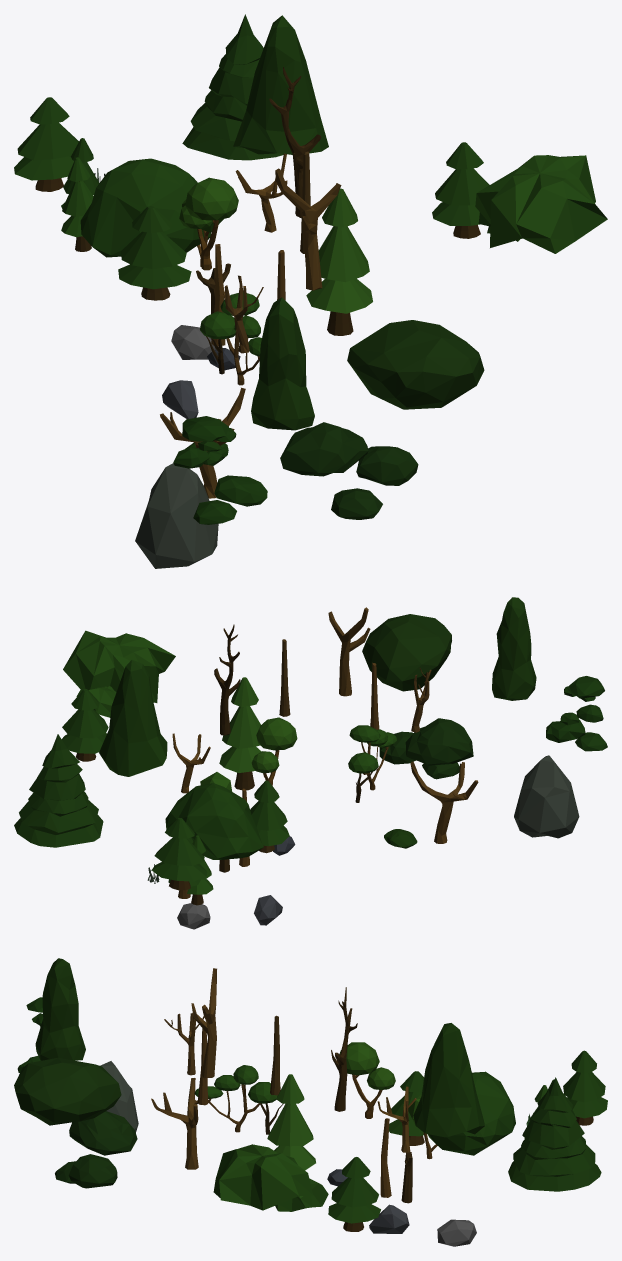
The model's file is Cenario.fbx.
The picture shows the model from 3 angles, top to bottom: view 1: azimuth 30°, elevation 25°; view 2: azimuth 150°, elevation 25°; view 3: azimuth 270°, elevation 25°; orthographic projection. The views are drawn at different scales.
Visible parts, largest first — view 1: leaves, leaves_Icosphere.004, leaves_Icosphere.002, leaves_Sphere.001, leaves_Icosphere, leaves_Sphere.002, leaves_Sphere, leaves_Sphere.003, Icosphere.002, leaves_Icosphere.001, Icosphere.005, Icosphere (+12 smaller); view 2: leaves_Sphere.003, leaves_Sphere.001, leaves_Icosphere.004, leaves, leaves_Icosphere.002, leaves_Sphere.002, leaves_Icosphere, leaves_Sphere, Icosphere.002, leaves_Icosphere.001, Icosphere, Icosphere.004 (+13 smaller); view 3: leaves_Sphere.003, leaves_Icosphere.004, leaves, leaves_Sphere.001, leaves_Icosphere, leaves_Sphere, leaves_Icosphere.002, Icosphere.004, Icosphere.002, Icosphere, Cylinder.002_Cylinder.003, Icosphere.008 (+14 smaller).
Boxes of the visible parts, x1,y1,x2,y2 form: leaves: [475, 155, 607, 253]; leaves_Icosphere.004: [347, 320, 484, 409]; leaves_Icosphere.002: [80, 158, 210, 257]; leaves_Sphere.001: [233, 15, 328, 154]; leaves_Icosphere: [280, 422, 418, 519]; leaves_Sphere.002: [135, 463, 218, 568]; leaves_Sphere: [251, 297, 314, 430]; leaves_Sphere.003: [182, 14, 283, 160]; Icosphere.002: [306, 188, 372, 335]; leaves_Icosphere.001: [173, 416, 267, 524]; Icosphere.005: [118, 206, 191, 300]; Icosphere: [14, 97, 78, 191]; leaves_Sphere.003: [14, 734, 103, 847]; leaves_Sphere.001: [99, 660, 167, 776]; leaves_Icosphere.004: [362, 614, 451, 691]; leaves: [63, 630, 175, 717]; leaves_Icosphere.002: [165, 783, 263, 859]; leaves_Sphere.002: [514, 755, 579, 838]; leaves_Icosphere: [379, 718, 473, 779]; leaves_Sphere: [492, 597, 536, 700]; Icosphere.002: [219, 677, 261, 790]; leaves_Icosphere.001: [546, 676, 607, 751]; Icosphere: [151, 818, 207, 890]; Icosphere.004: [61, 689, 108, 761]; leaves_Sphere.003: [508, 1077, 601, 1191]; leaves_Icosphere.004: [14, 1057, 121, 1125]; leaves: [213, 1144, 328, 1211]; leaves_Sphere.001: [413, 1023, 484, 1137]; leaves_Icosphere: [55, 1111, 137, 1188]; leaves_Sphere: [35, 958, 85, 1060]; leaves_Icosphere.002: [427, 1071, 515, 1155]; Icosphere.004: [328, 1157, 380, 1231]; Icosphere.002: [267, 1074, 315, 1170]; Icosphere: [563, 1050, 607, 1125]; Cylinder.002_Cylinder.003: [194, 1065, 277, 1132]; Icosphere.008: [339, 1042, 395, 1118].
Bounding box in the file's own units: 3294 × 1982 × 3895.
